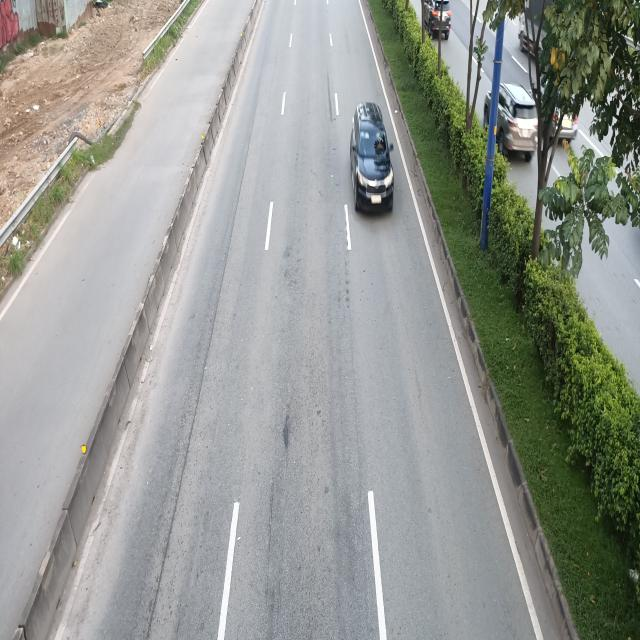car: (349, 101, 394, 215)
